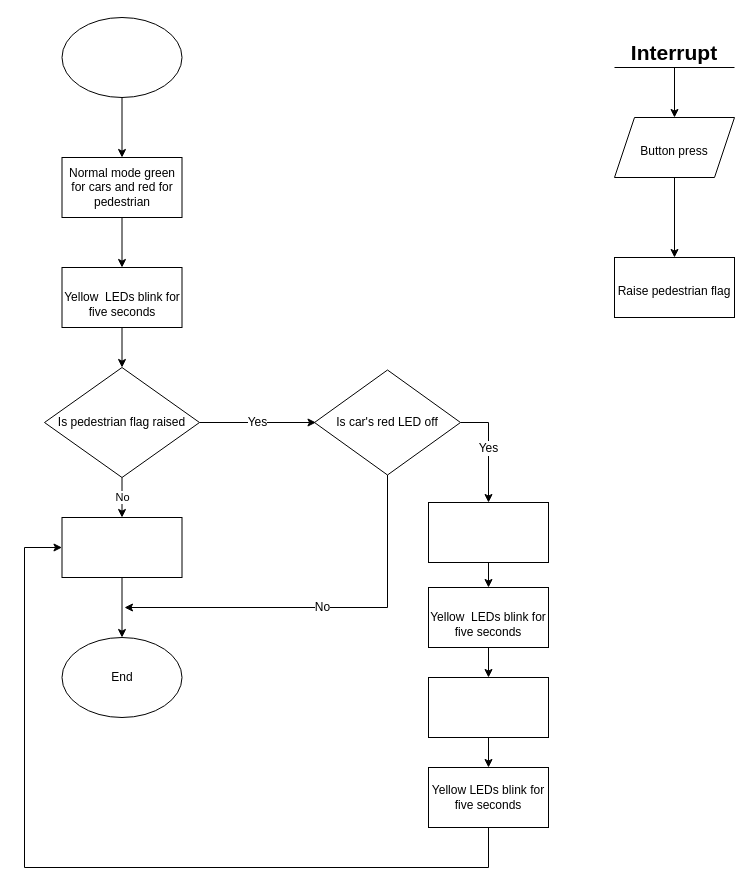
Image size: 753x893. Some labels were removed from this diagram. Each missing label, with the box of its shape:
Normal mode red for cars and green for pedestrian: (61, 516, 182, 578)
Pedestrian mode green for passengers and red for cars: (428, 502, 548, 562)
Pedestrian mode red for passengers and green for cars: (428, 676, 548, 738)
Start: (61, 16, 182, 98)
